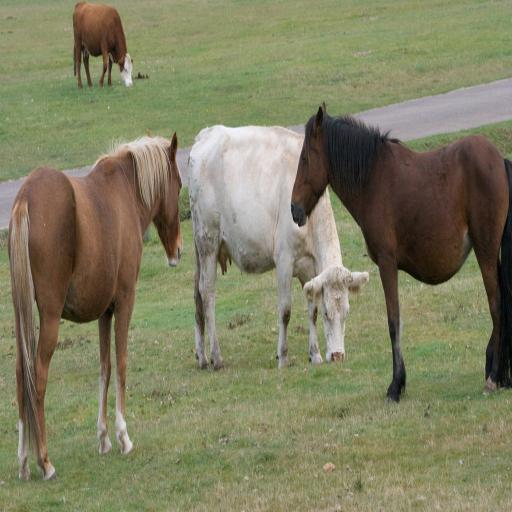Horse: (290, 101, 512, 405), (6, 131, 185, 482)
